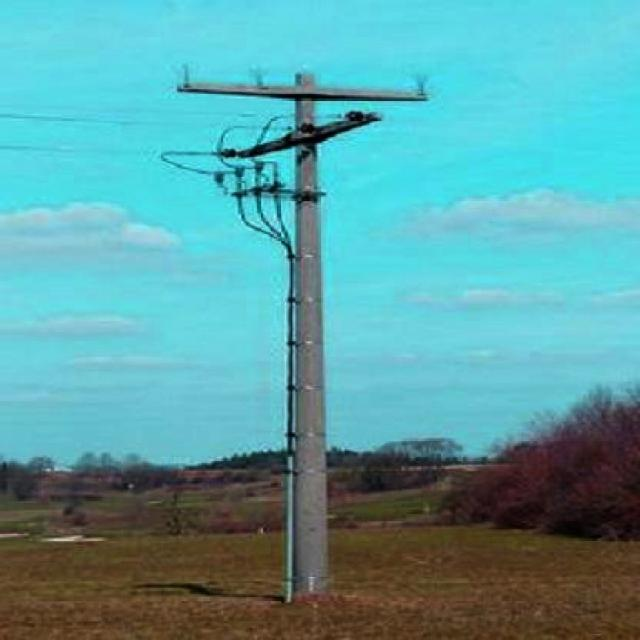crossarm: (177, 63, 431, 103), (217, 110, 382, 160), (249, 66, 262, 85)
pole: (294, 66, 328, 595)
wire: (254, 159, 294, 457), (233, 163, 283, 245), (213, 167, 327, 199), (253, 166, 286, 240), (1, 112, 155, 126), (157, 147, 226, 176), (0, 142, 111, 158), (216, 122, 262, 146), (258, 112, 294, 141)
